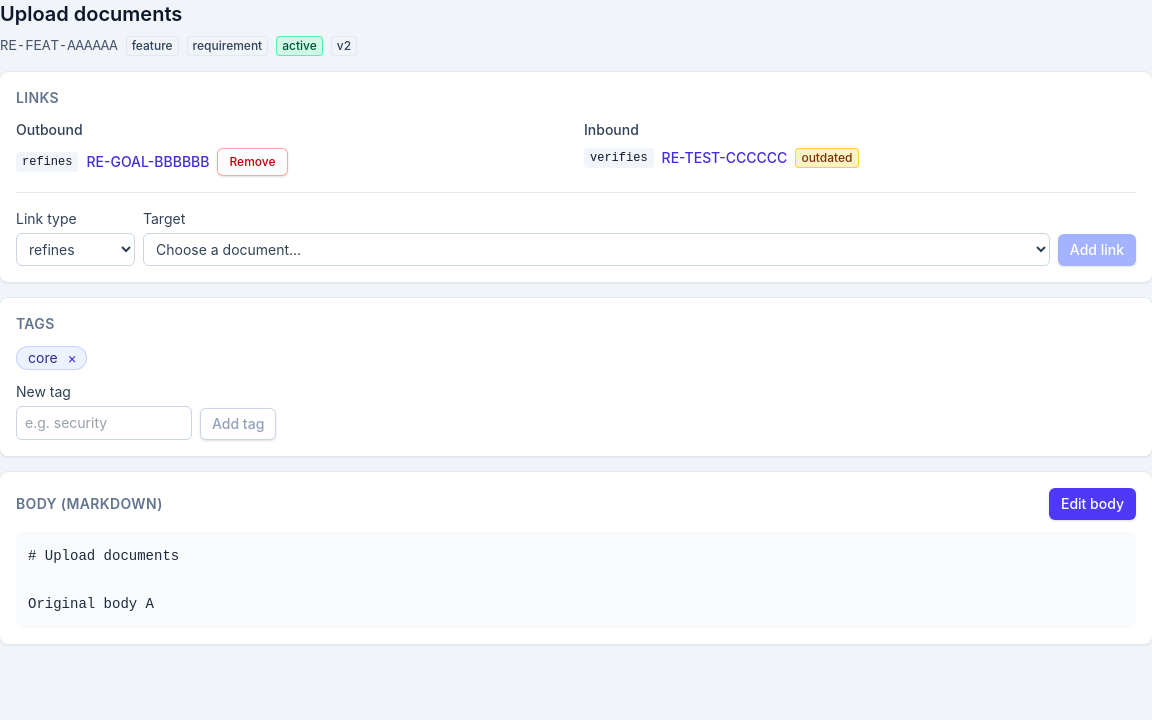
it: DocumentDetail body › re-enables the editor with the draft intact when a save fails
Click the button "Edit body" at (1092, 504), box [1049, 488, 1136, 520]
(page scrolled)
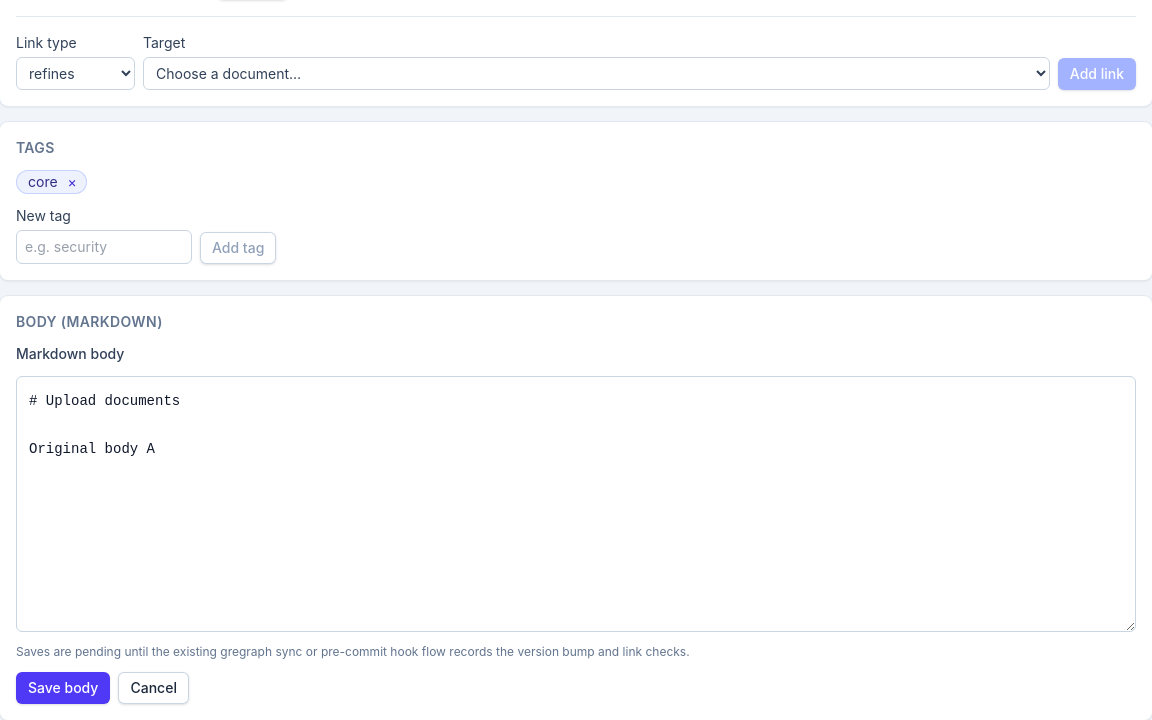
Replace the text in the text box labelled "Markdown body" with "keep" at (576, 504), box [16, 376, 1136, 632]
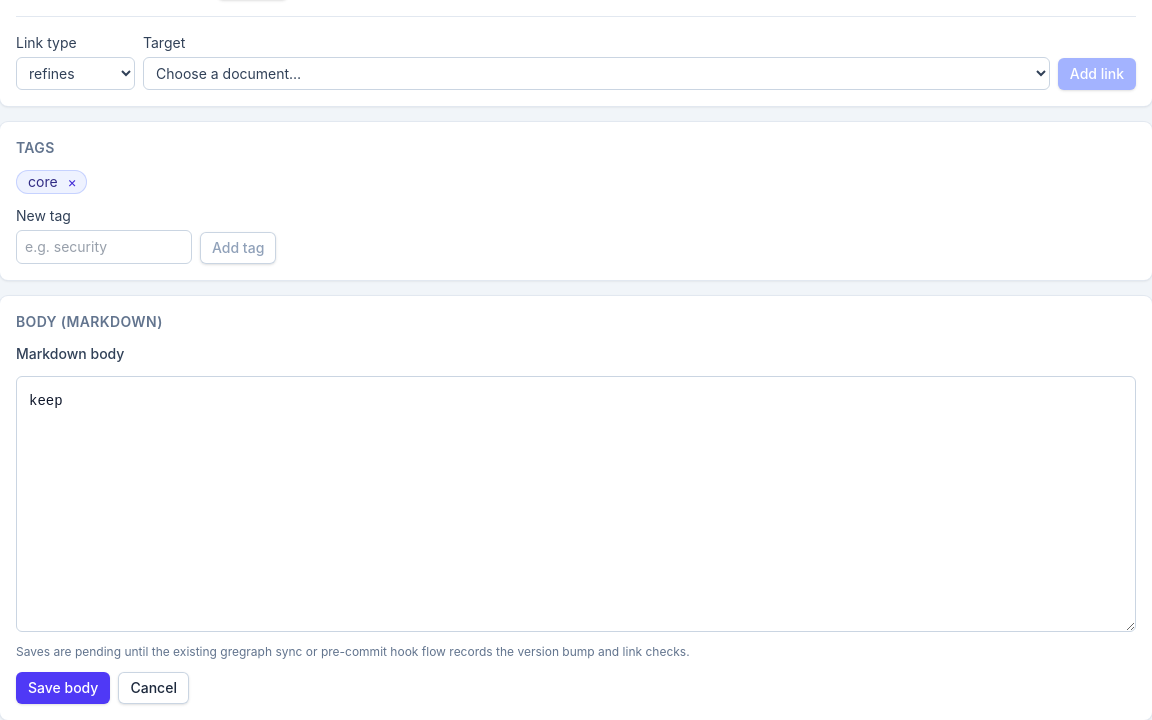
Click the button "Save body" at (63, 688), box [16, 672, 110, 704]
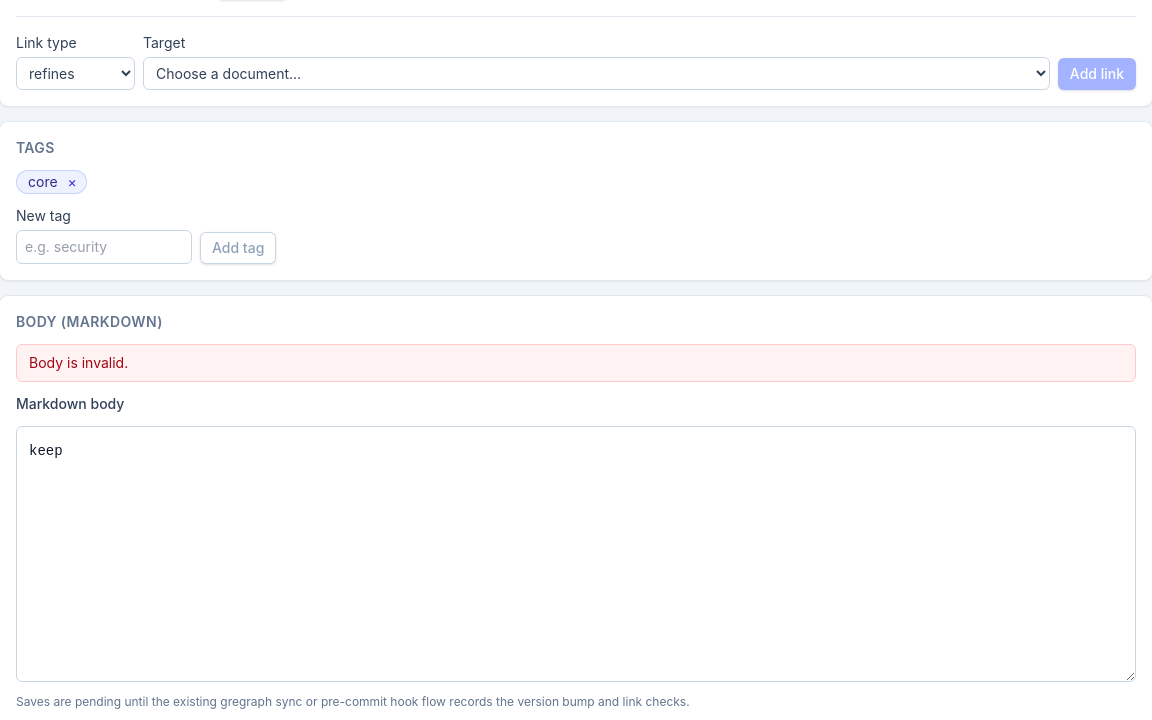
expect the text box labelled "Markdown body" is enabled: met, box [16, 426, 1136, 682]
expect the message reads "Body is invalid.": met, box [29, 354, 128, 371]
